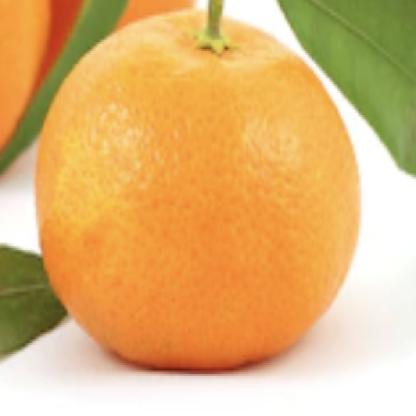fresh: (34, 9, 363, 372)
